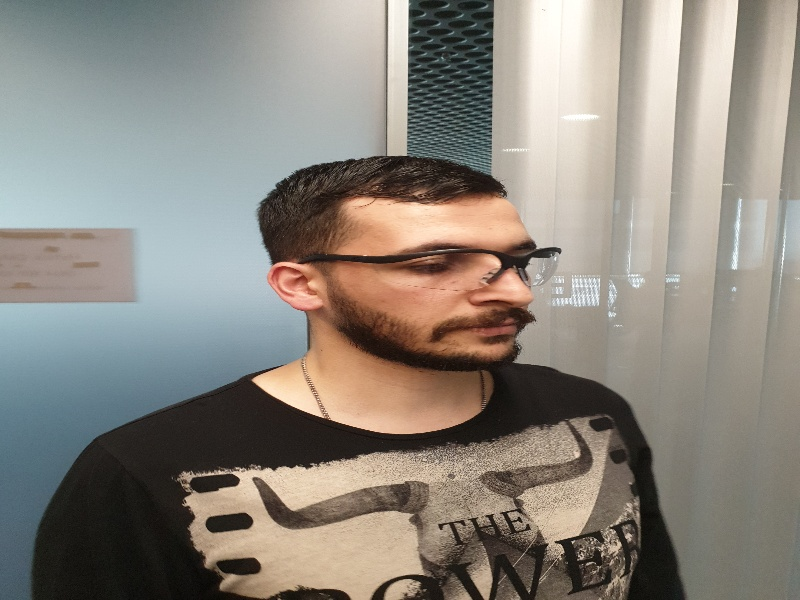Gozluk: (288, 246, 568, 291)
